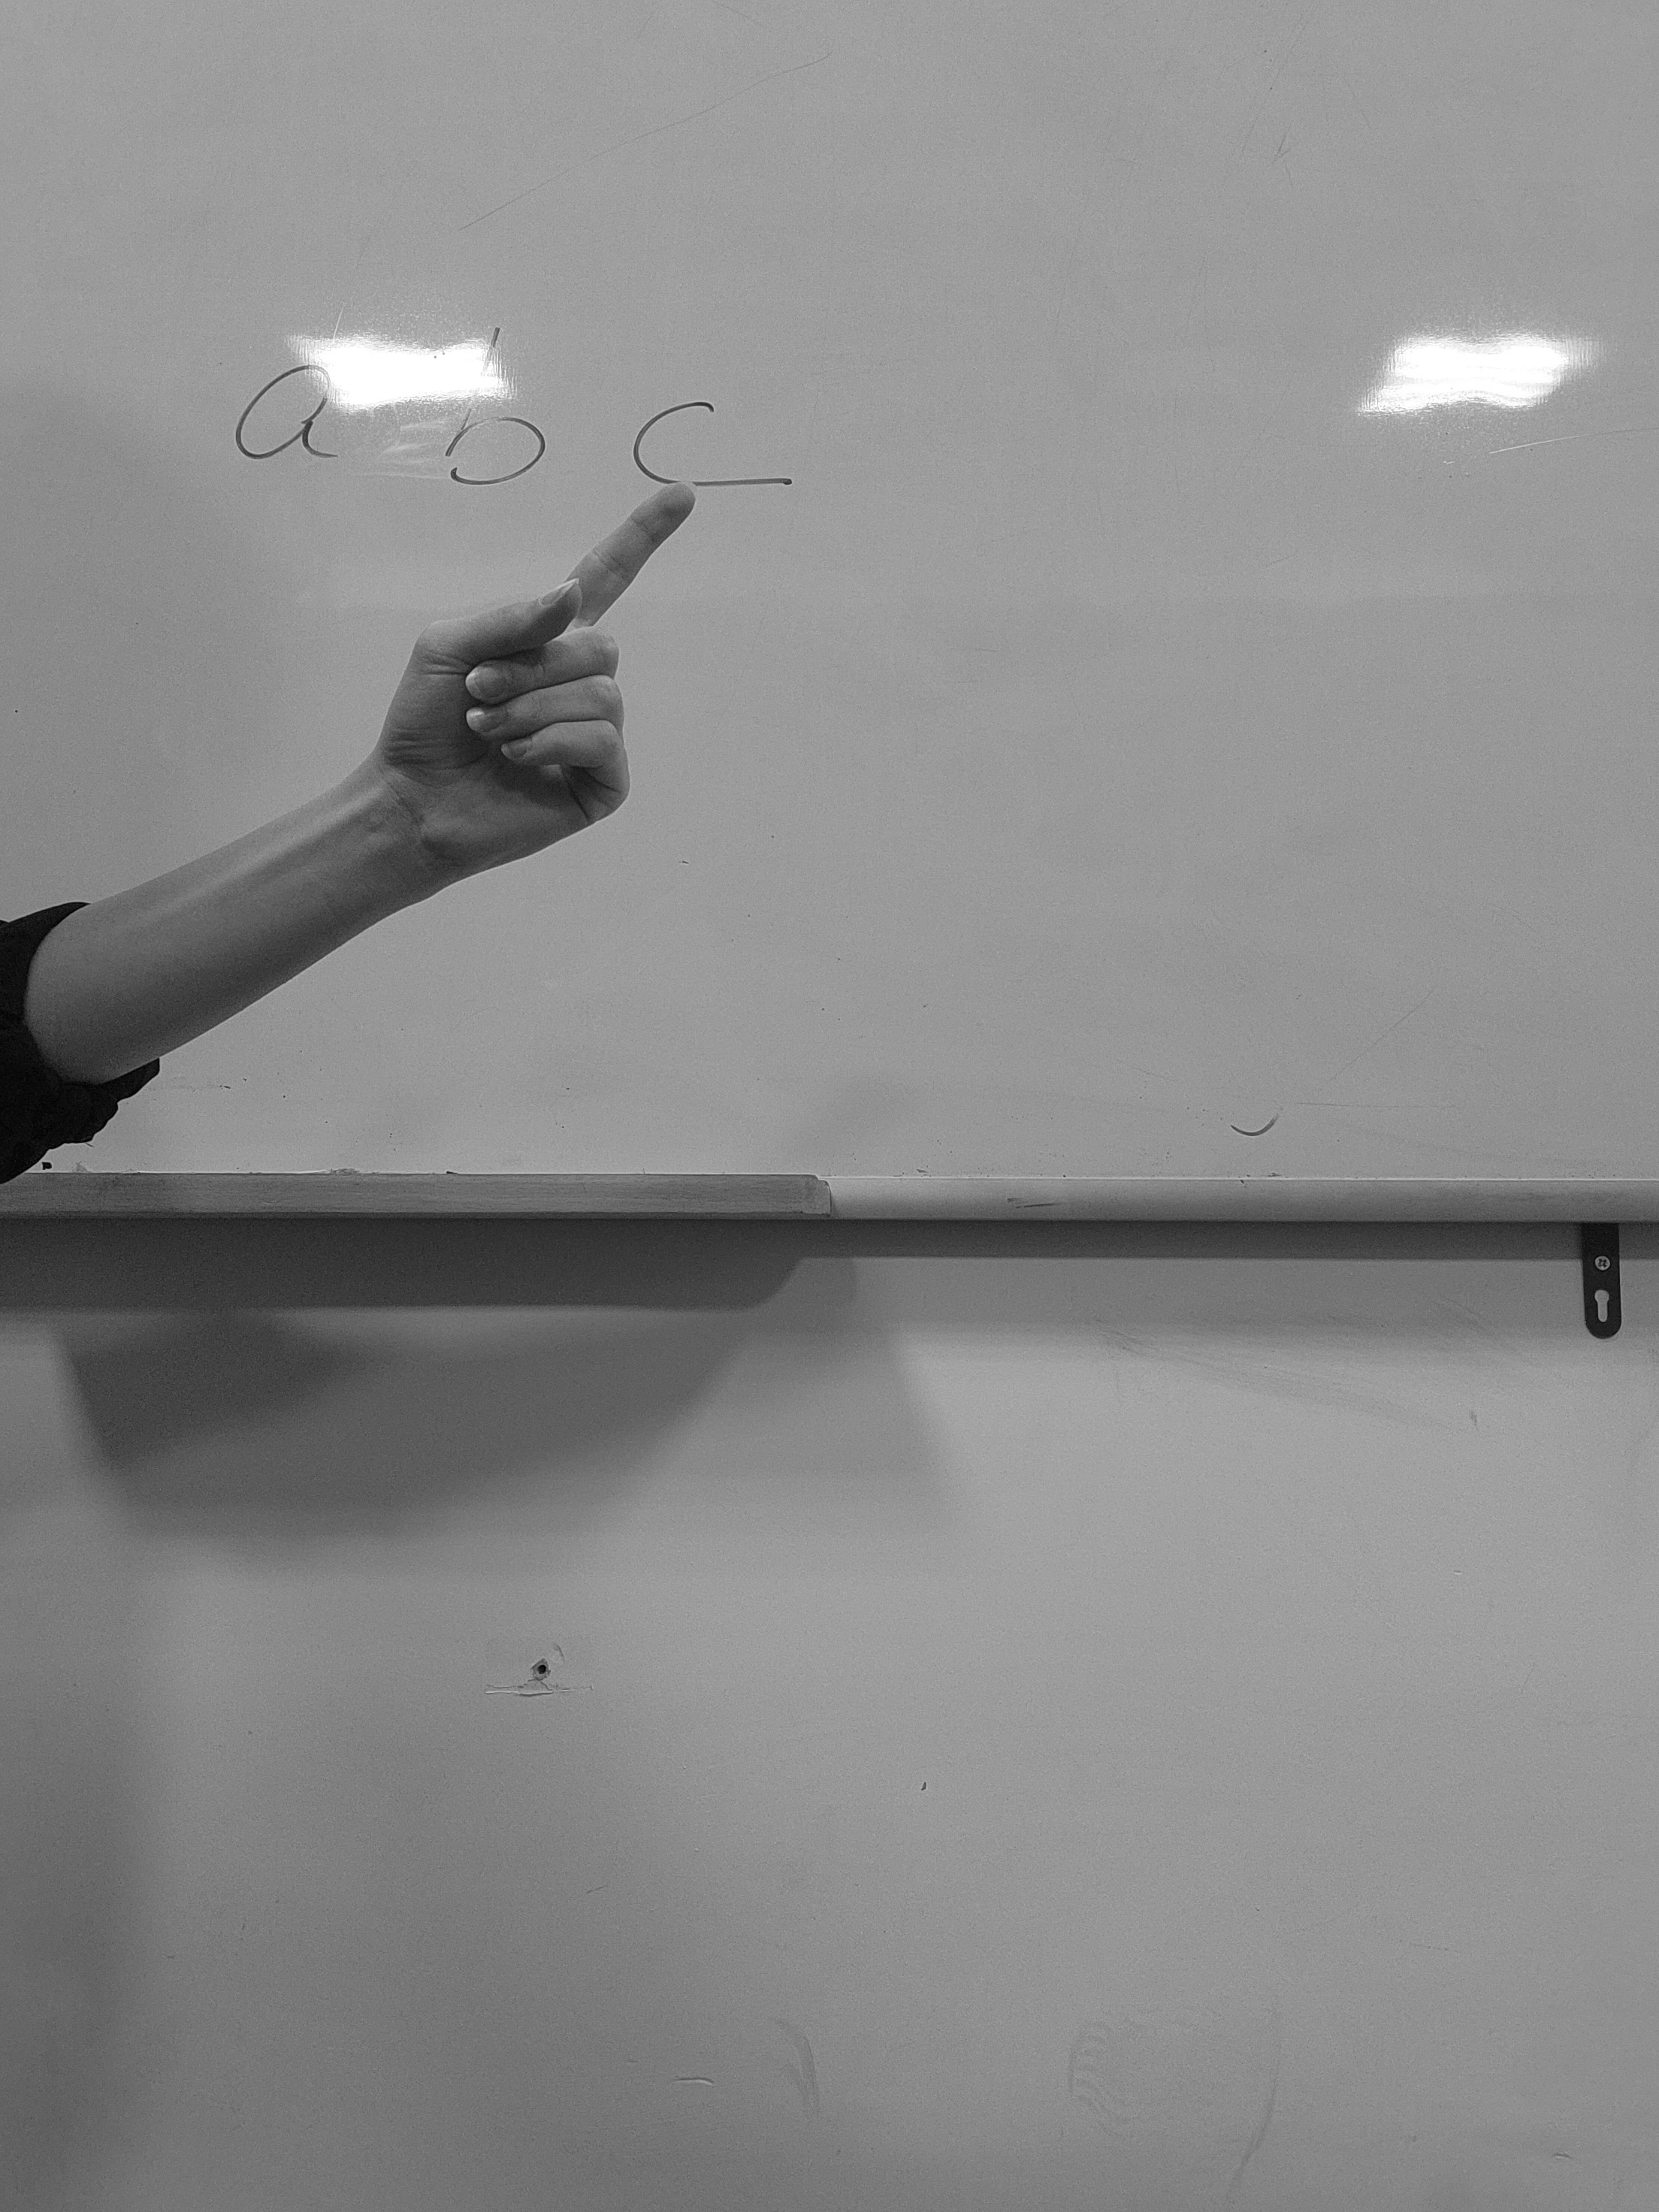pointing_gesture: (376, 481, 775, 890)
